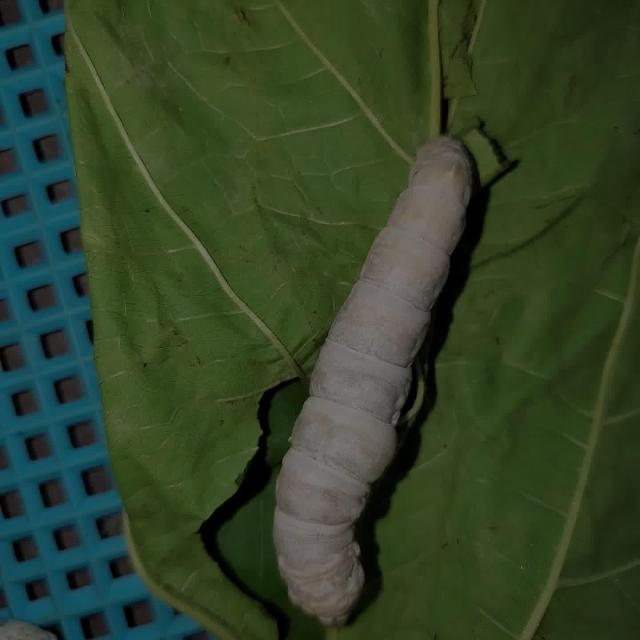Grasserie: (246, 116, 525, 633)
